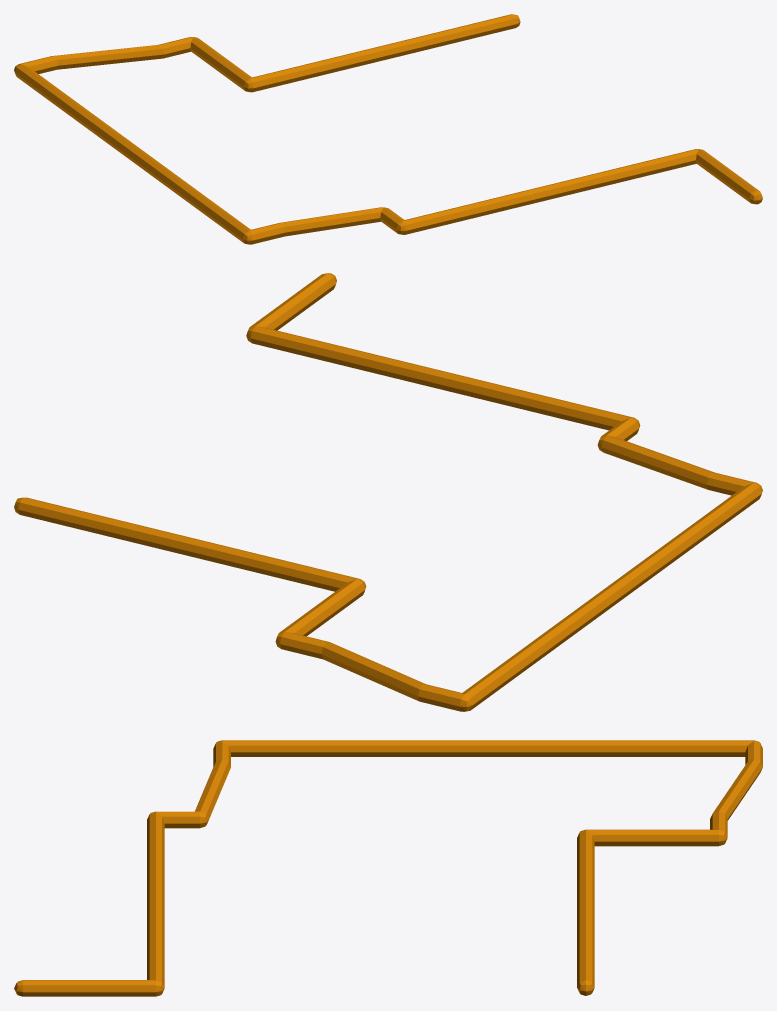
3 views of the same model, one above another, from view 1: azimuth 30°, elevation 25°; view 2: azimuth 150°, elevation 25°; view 3: azimuth 270°, elevation 25° (orthographic). The views are drawn at different scales.
Bounding box in the file's own units: 660 × 20 × 845.
